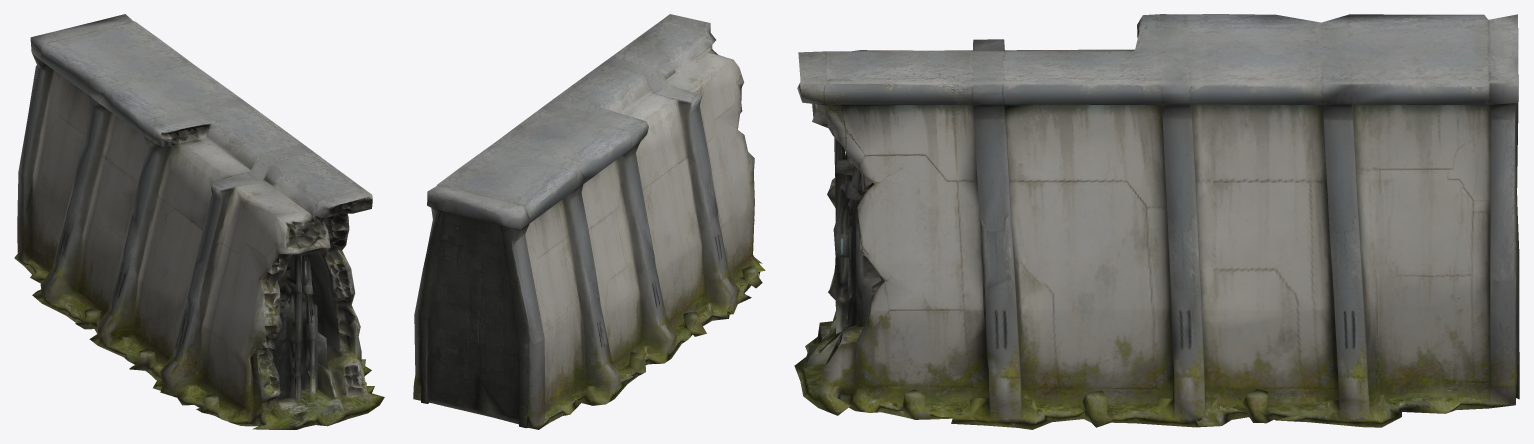
The model's file is env_fu_wall.glb.
The picture shows the model from 3 angles, left to right: view 1: azimuth 30°, elevation 25°; view 2: azimuth 150°, elevation 25°; view 3: azimuth 270°, elevation 25°; orthographic projection. The views are drawn at different scales.
Parts seen in each view (by area): view 1: tripo_node_8c119bdf-85c5-4c5a-9c77-3db41560e943; view 2: tripo_node_8c119bdf-85c5-4c5a-9c77-3db41560e943; view 3: tripo_node_8c119bdf-85c5-4c5a-9c77-3db41560e943.
Part boxes in pixels (left/top/right/bottom): tripo_node_8c119bdf-85c5-4c5a-9c77-3db41560e943: left=14, top=14, right=384, bottom=429; tripo_node_8c119bdf-85c5-4c5a-9c77-3db41560e943: left=413, top=14, right=765, bottom=429; tripo_node_8c119bdf-85c5-4c5a-9c77-3db41560e943: left=794, top=14, right=1519, bottom=429.
Size of the model in its own units: 0.4308 by 0.4836 by 1.
Materials: 1 (1 with a texture image).
